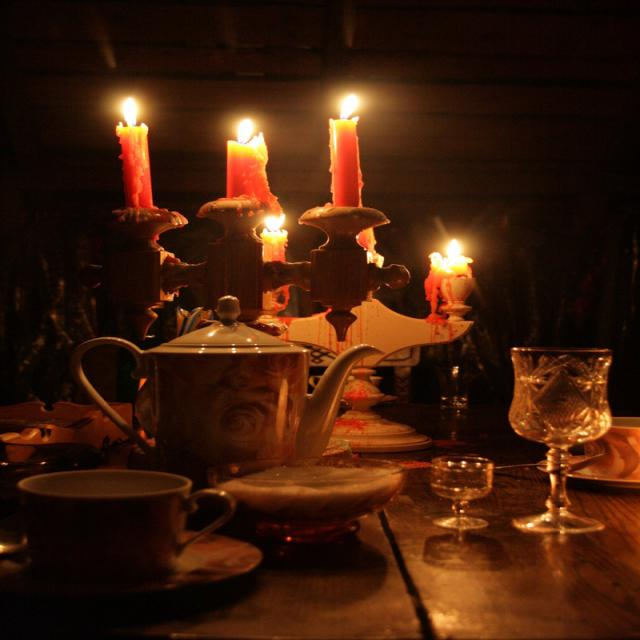Cup: (53, 316, 427, 496), (38, 459, 265, 617), (516, 340, 640, 591), (429, 458, 509, 567)
Table: (2, 319, 640, 640)
